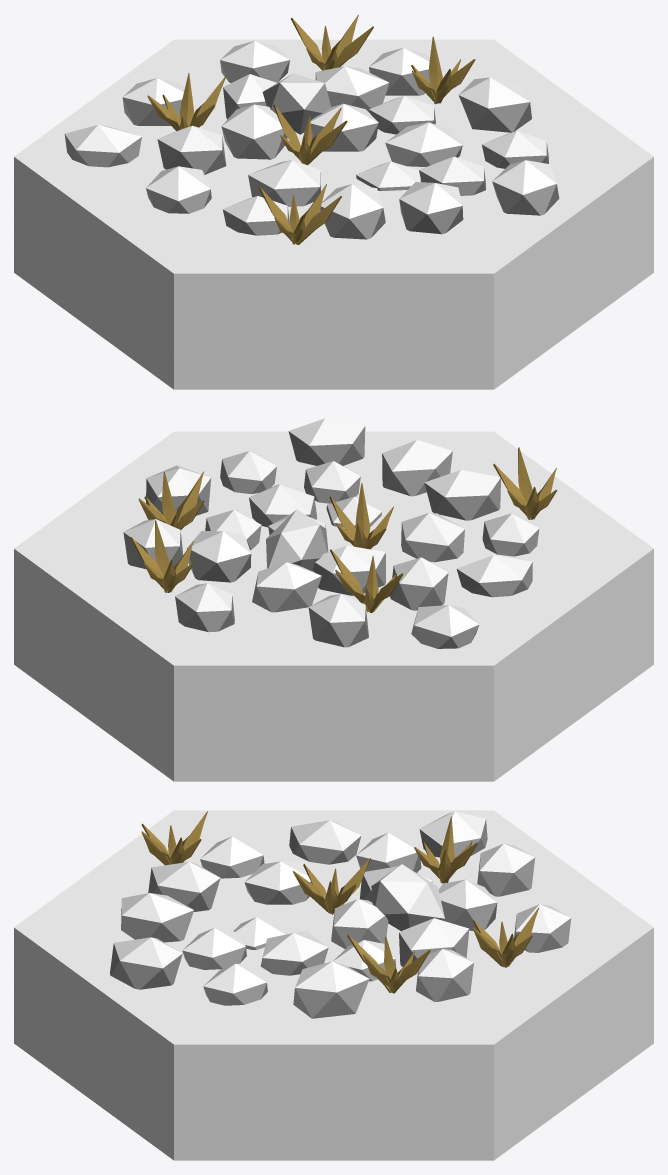
File: Rocoso_Nieve_Hex.fbx
The picture shows the model from 3 angles, top to bottom: view 1: azimuth 30°, elevation 25°; view 2: azimuth 150°, elevation 25°; view 3: azimuth 270°, elevation 25°; orthographic projection.
Visible parts, largest first — view 1: Rocoso_Nieve; view 2: Rocoso_Nieve; view 3: Rocoso_Nieve.
Part boxes in pixels (bbox=[...]): Rocoso_Nieve: bbox=[14, 14, 653, 389]; Rocoso_Nieve: bbox=[14, 418, 653, 781]; Rocoso_Nieve: bbox=[14, 810, 653, 1160].
Size of the model in its own units: 86.6 by 29.28 by 100.
1 material, 1 textured.
